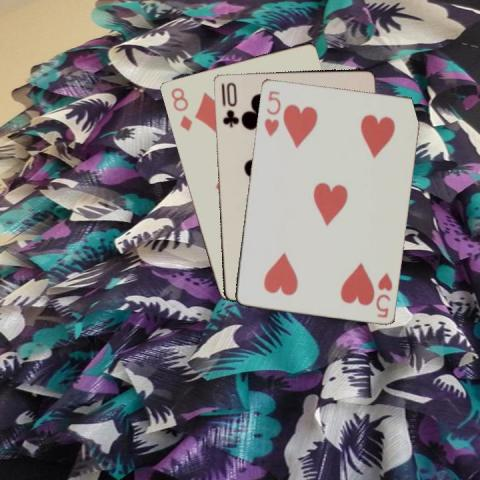10c: (218, 78, 239, 128)
5h: (261, 87, 282, 138), (373, 270, 394, 319)
8d: (168, 84, 194, 133)
